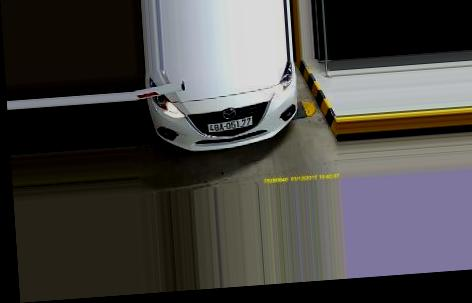License_Plate: (206, 116, 255, 134)
